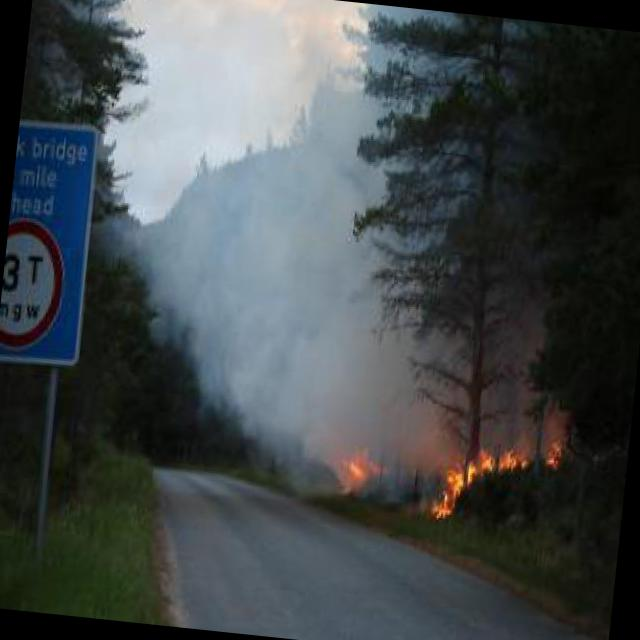fire: (470, 431, 570, 480), (430, 440, 470, 524), (347, 439, 383, 486)
smoke: (110, 106, 426, 440)
